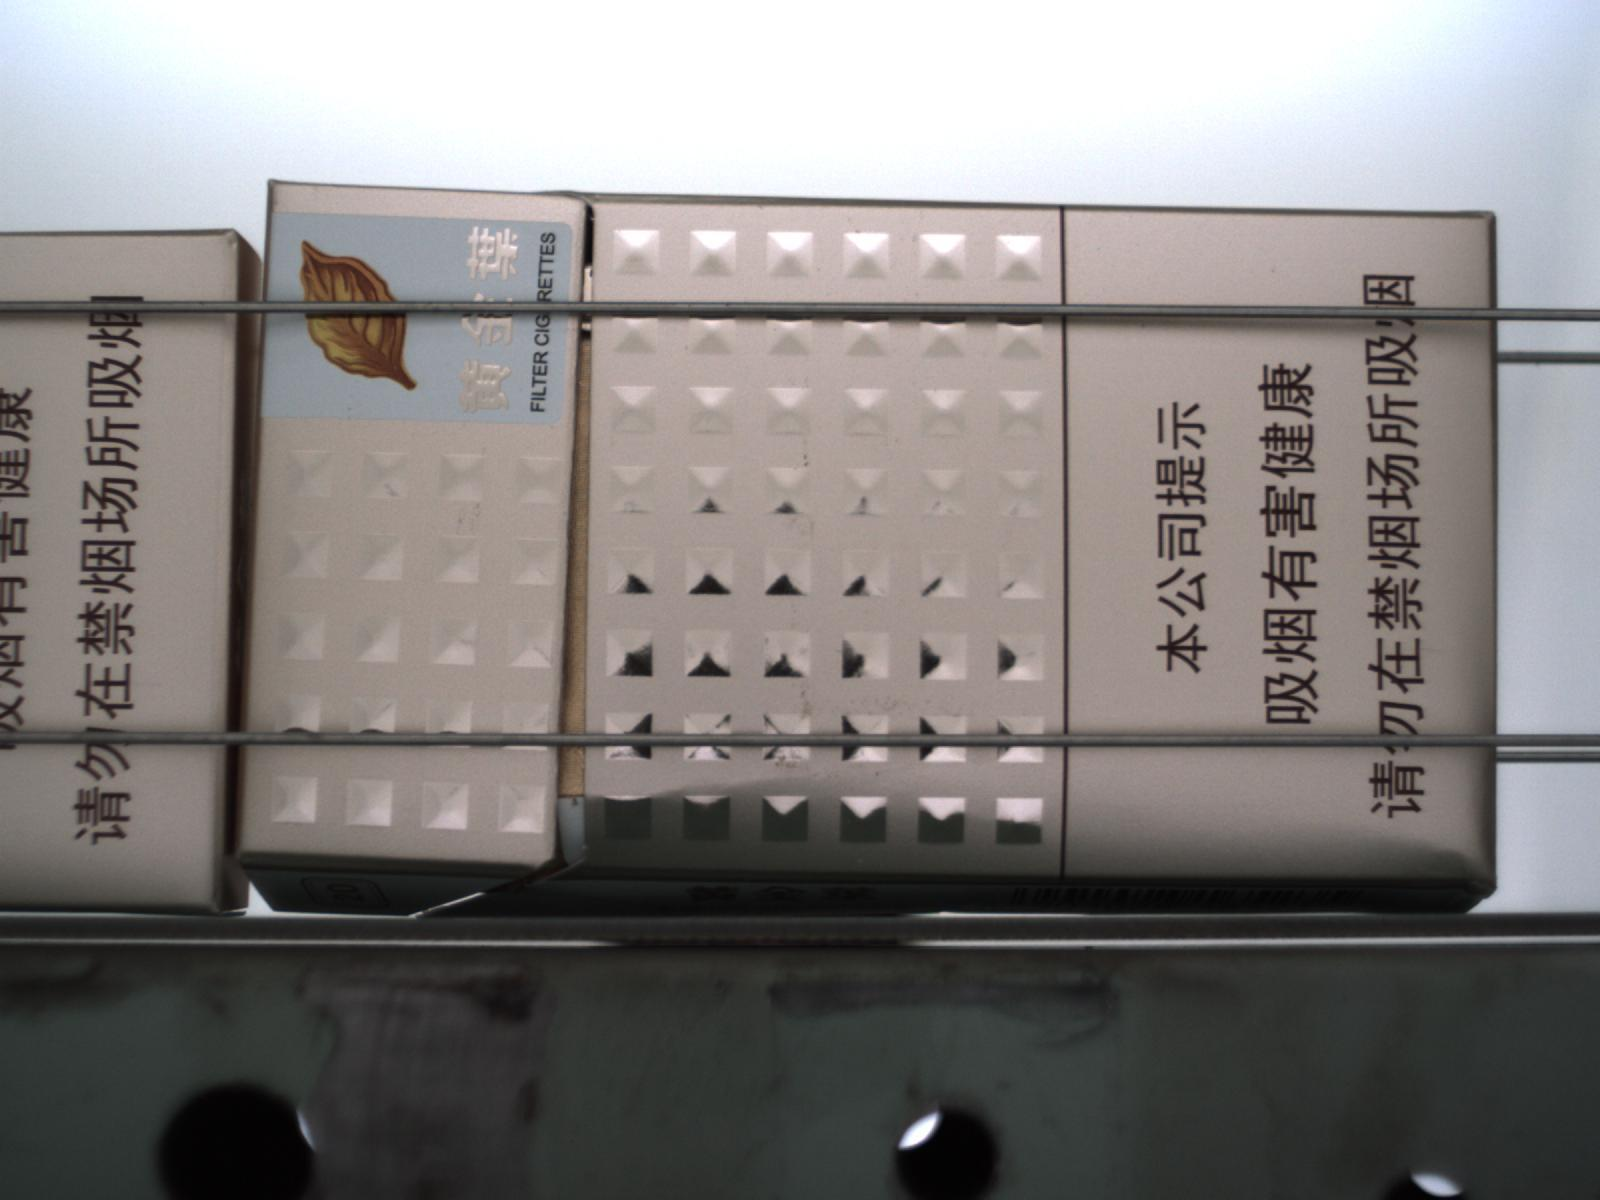areaOil: (375, 782, 1518, 920)
boxDamage_slight: (416, 790, 1493, 919)
dirtySpot: (801, 453, 813, 469), (1267, 266, 1279, 277), (847, 216, 859, 226), (913, 291, 923, 300), (1139, 321, 1148, 332)
frame: (238, 863, 542, 916)
